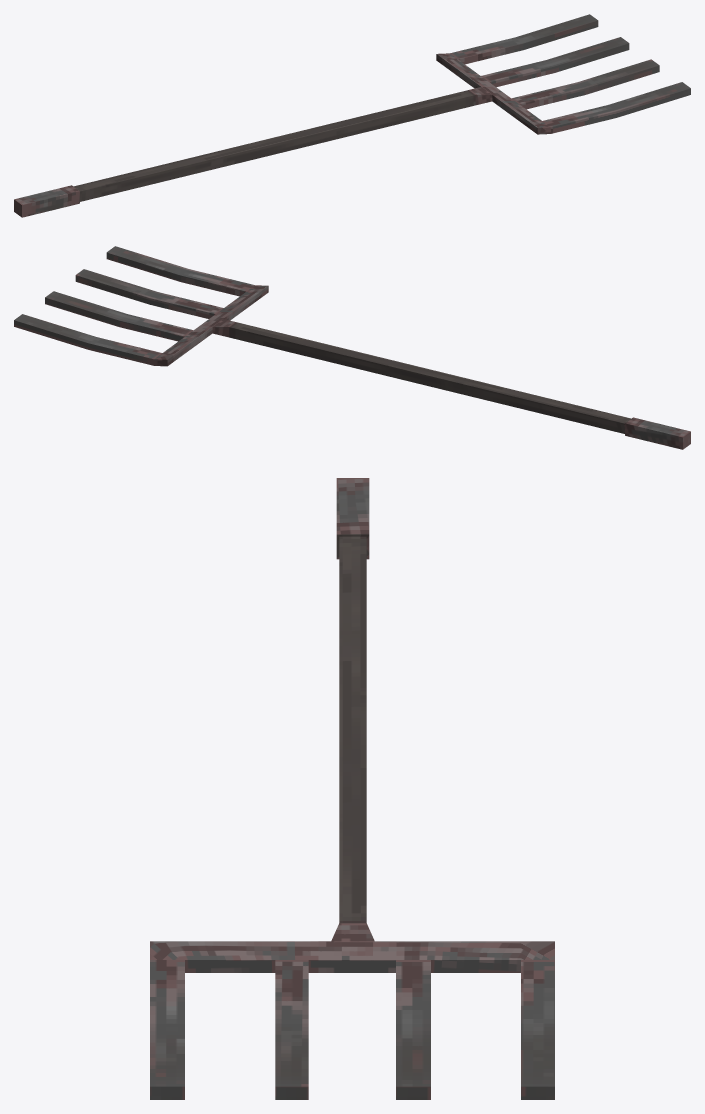
Rendered from pitchfork.fbx.
3 views of the same model, one above another, from view 1: azimuth 30°, elevation 25°; view 2: azimuth 150°, elevation 25°; view 3: azimuth 270°, elevation 25° (orthographic). The views are drawn at different scales.
Parts seen in each view (by area): view 1: pitchfork; view 2: pitchfork; view 3: pitchfork.
Boxes of the visible parts, x1,y1,x2,y2 form: pitchfork: (14,14,690,217); pitchfork: (14,246,690,449); pitchfork: (150,478,554,1099).
Size of the model in its own units: 4.55 by 0.0869 by 1.28.
